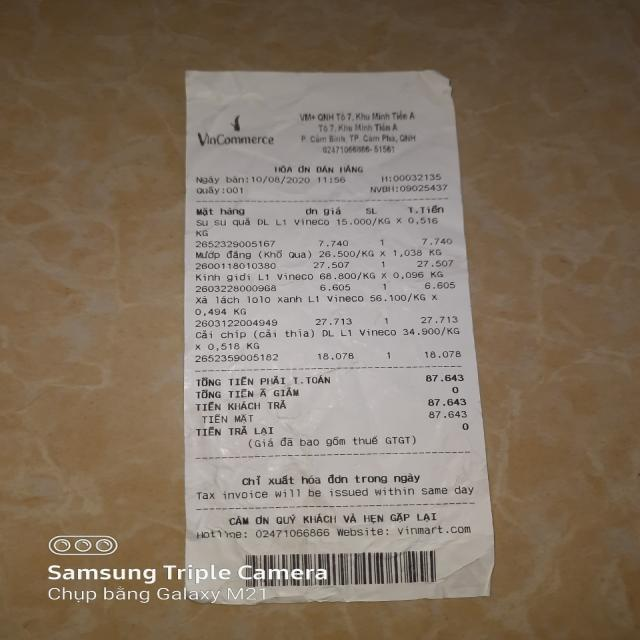Date: (251, 174, 313, 184)
Store_Name: (192, 131, 278, 147)
amount_number: (424, 372, 465, 382)
label_total: (193, 374, 334, 386)
